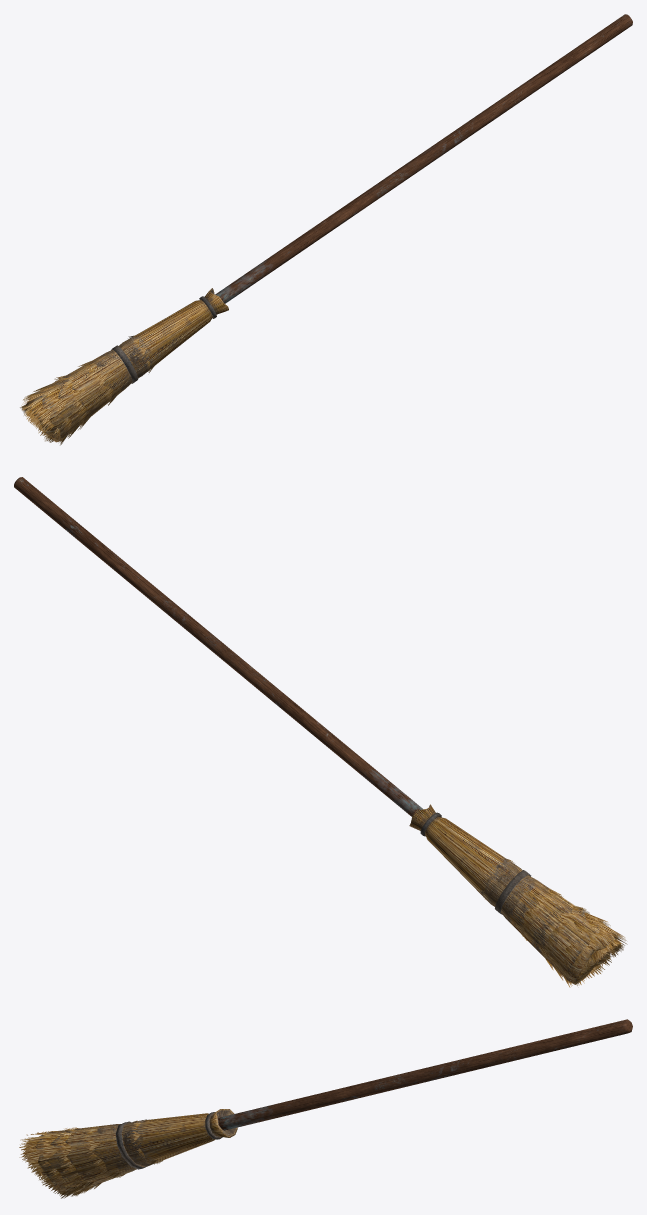
Rendered from broom_2.glb.
3 views of the same model, one above another, from view 1: azimuth 30°, elevation 25°; view 2: azimuth 150°, elevation 25°; view 3: azimuth 330°, elevation 25° (orthographic). The views are drawn at different scales.
Visible parts, largest first — view 1: Metla; view 2: Metla; view 3: Metla.
Boxes of the visible parts, x1,y1,x2,y2 form: Metla: (20, 14, 632, 445); Metla: (14, 477, 627, 987); Metla: (19, 1019, 632, 1198).
Size of the model in its own units: 52.35 by 26.9 by 6.59.
1 material, 1 textured.
